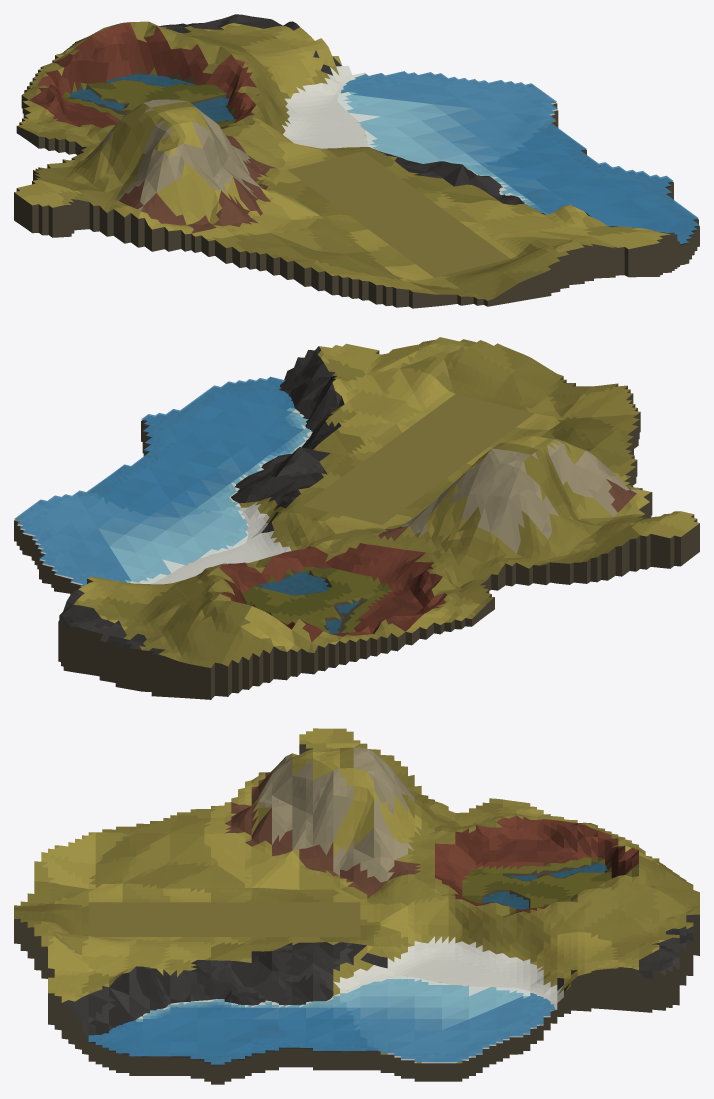
Rendered from easter-island-rapa-nui-584f21.glb.
3 views of the same model, one above another, from view 1: azimuth 30°, elevation 25°; view 2: azimuth 150°, elevation 25°; view 3: azimuth 270°, elevation 25° (orthographic). The views are drawn at different scales.
Parts seen in each view (by area): view 1: ground, water; view 2: ground, water; view 3: ground, water.
Boxes of the visible parts, x1,y1,x2,y2 form: ground: (14, 14, 699, 308); water: (69, 71, 699, 244); ground: (14, 337, 699, 699); water: (14, 376, 359, 633); ground: (14, 728, 699, 1084); water: (88, 863, 607, 1064).
Size of the model in its own units: 92 by 22.09 by 101.
